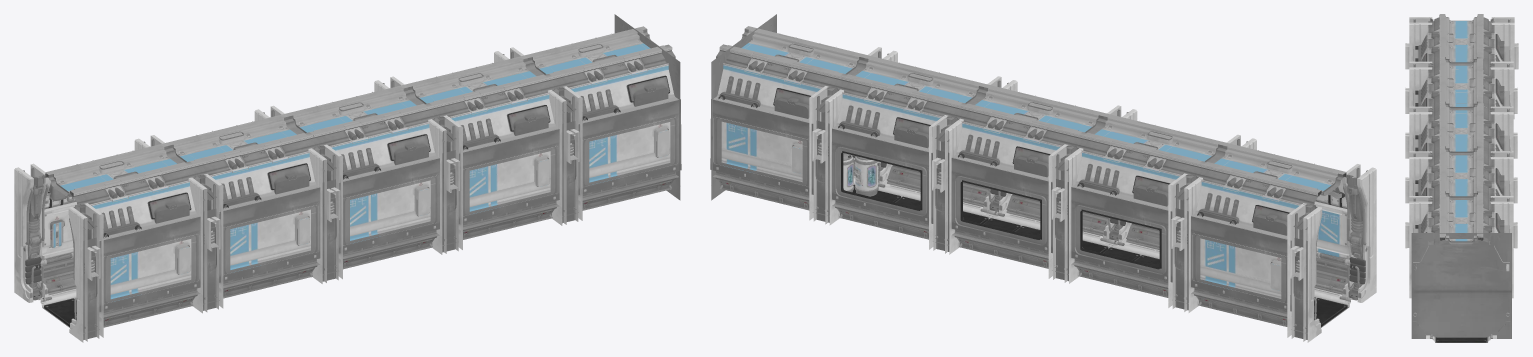
The model's file is corridor.glb.
3 renders of one model, left to right at view 1: azimuth 30°, elevation 25°; view 2: azimuth 150°, elevation 25°; view 3: azimuth 270°, elevation 25°, orthographic. The views are drawn at different scales.
Visible parts, largest first — view 1: Object033_01 - Default_0 (×2); view 2: Object033_01 - Default_0 (×2); view 3: Object033_01 - Default_0 (×2).
Part boxes in pixels (x1,y1,x2,y2): Object033_01 - Default_0 (×2): (14, 14, 681, 342); Object033_01 - Default_0 (×2): (710, 14, 1376, 342); Object033_01 - Default_0 (×2): (1405, 14, 1518, 342).
Size of the model in its own units: 14.81 by 3.23 by 3.12.
Materials: 3 (1 with a texture image).
